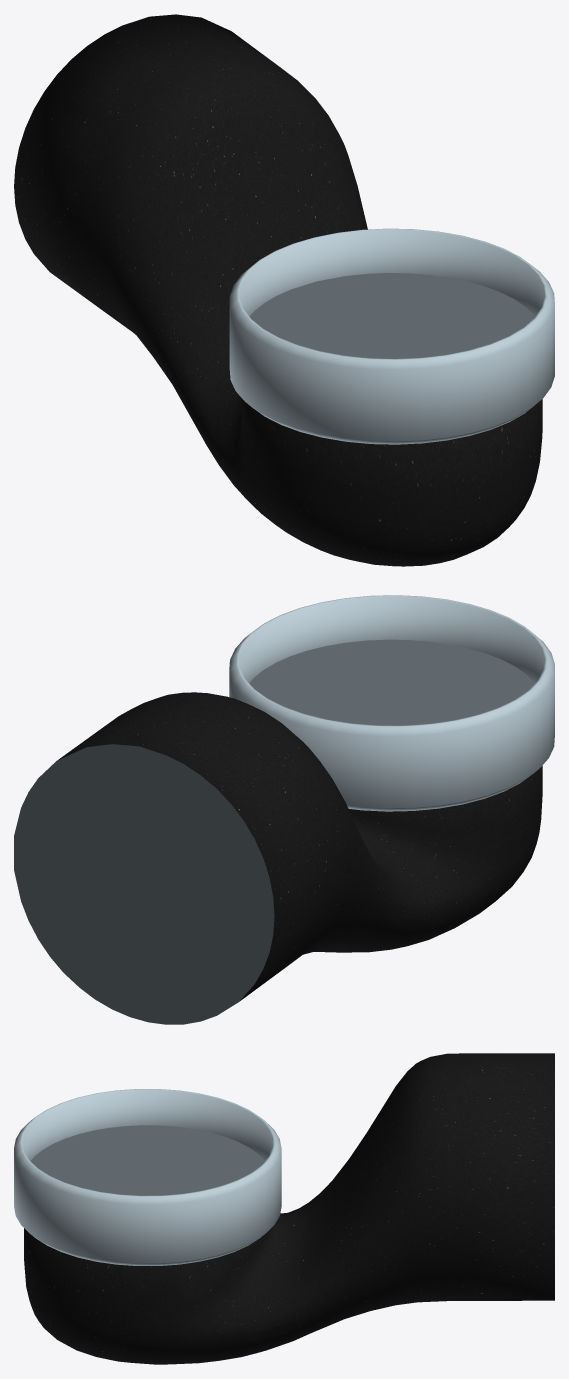
Rendered from wrist_spherical_2.dae.
3 renders of one model, top to bottom at view 1: azimuth 30°, elevation 25°; view 2: azimuth 150°, elevation 25°; view 3: azimuth 270°, elevation 25°, orthographic. The views are drawn at different scales.
Parts seen in each view (by area): view 1: node.007, Ring Small; view 2: node.007, Ring Small; view 3: node.007, Ring Small.
Part boxes in pixels (x1,y1,x2,y2): node.007: (14,14,542,566); Ring Small: (229,228,554,444); node.007: (14,639,542,1024); Ring Small: (229,595,554,811); node.007: (24,1053,554,1364); Ring Small: (14,1089,281,1265).
Bounding box in the file's own units: 0.0679 × 0.1377 × 0.0791.
1 material, 1 textured.
